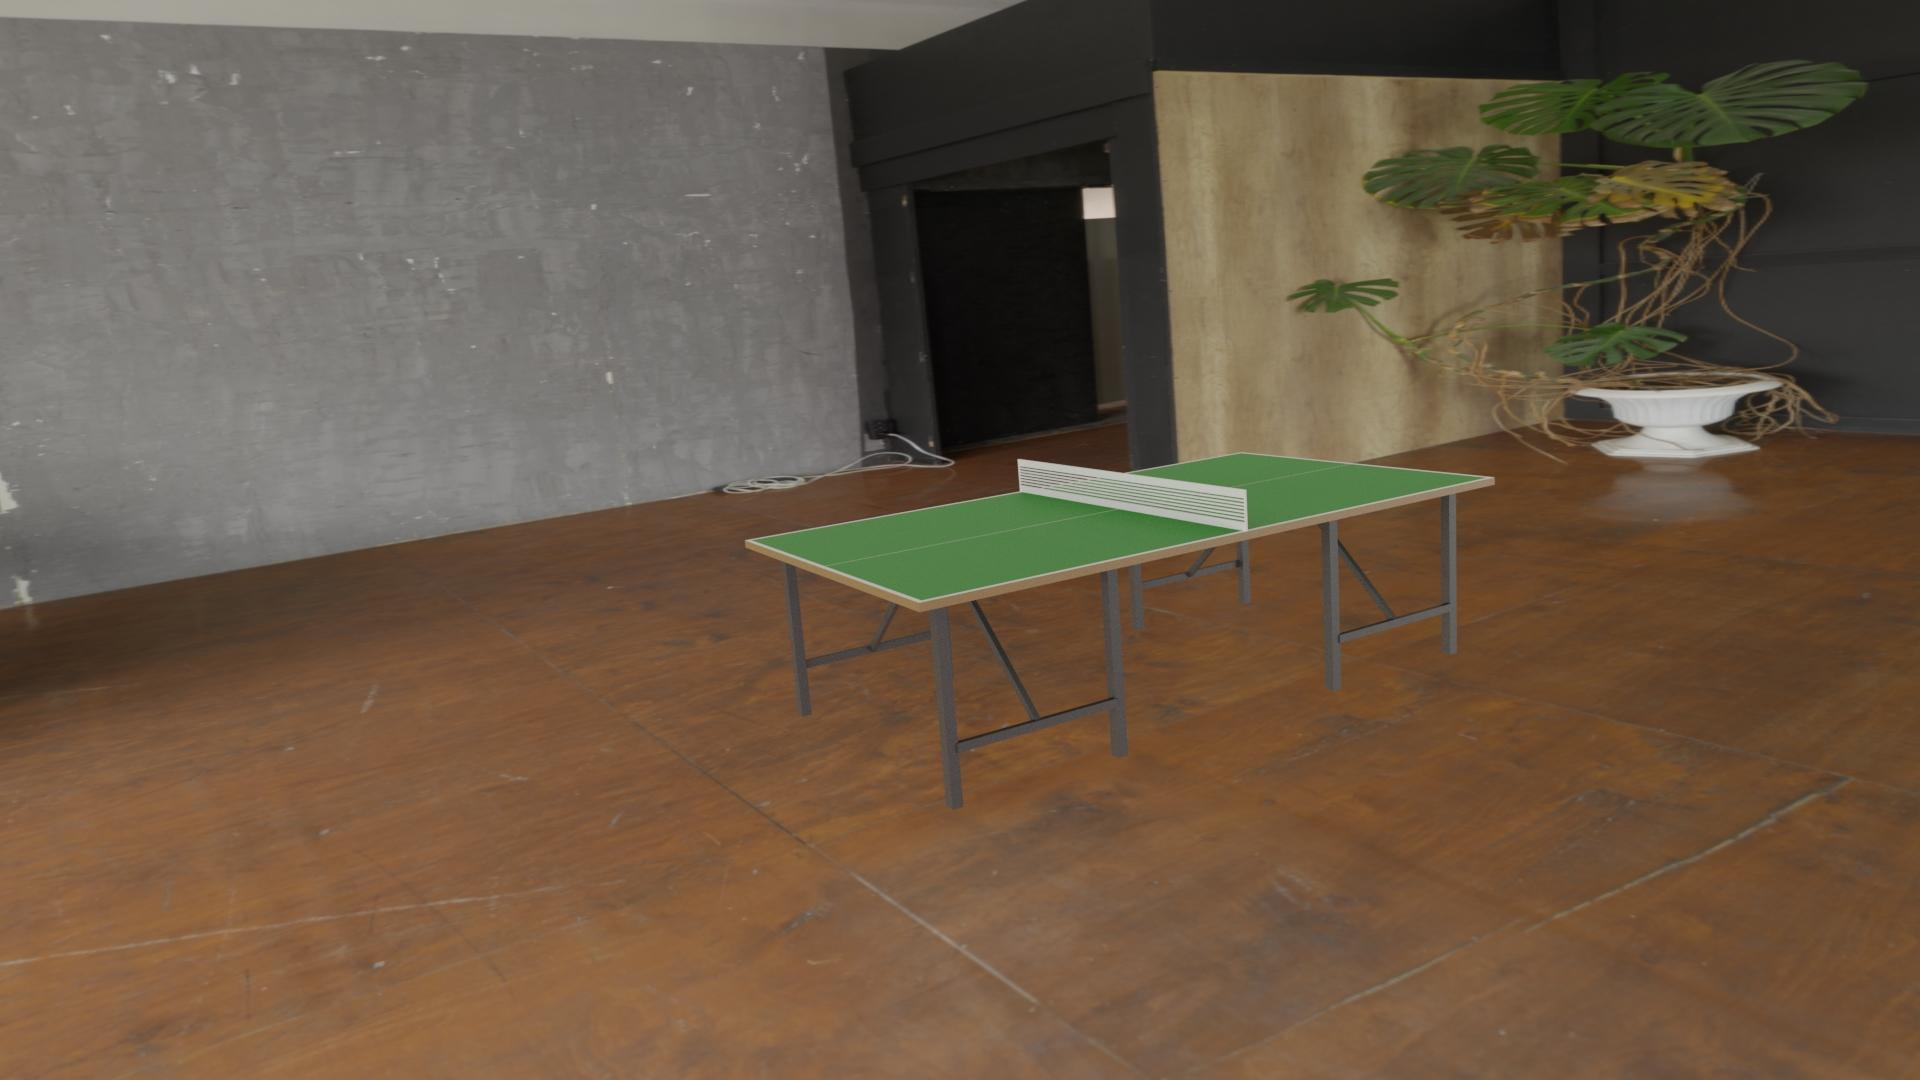table: (752, 454, 1487, 600)
